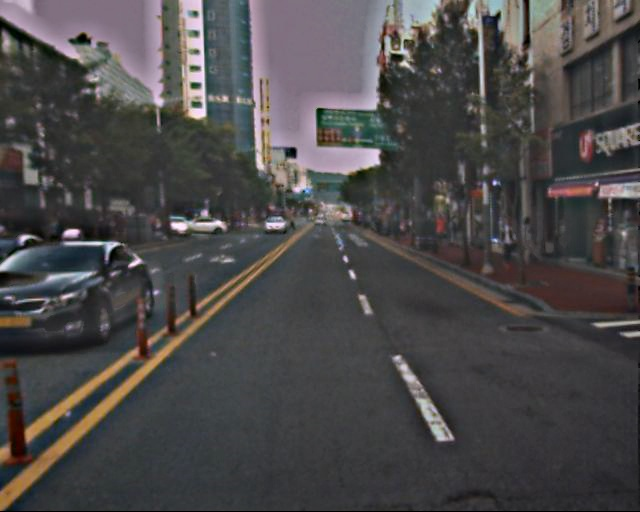person: (517, 216, 539, 270), (497, 217, 518, 269)
